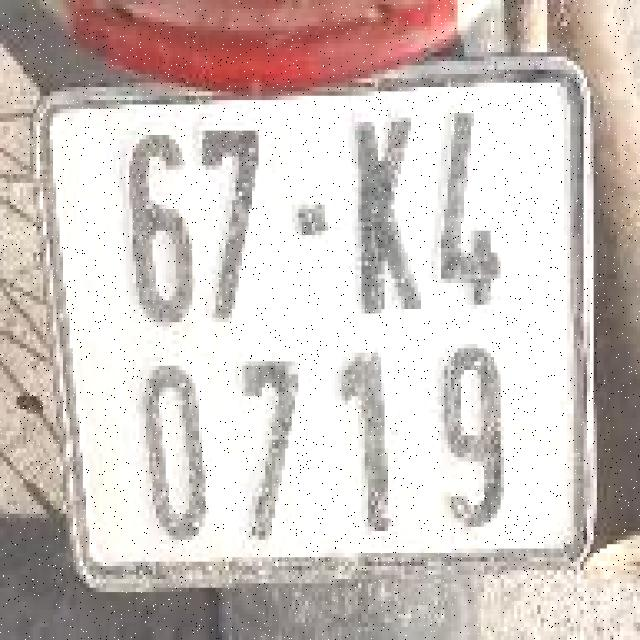0: (136, 346, 219, 547)
1: (337, 324, 396, 555)
4: (438, 98, 507, 320)
6: (116, 124, 199, 333)
7: (235, 333, 312, 551), (202, 109, 262, 326)
9: (434, 329, 520, 564)
K: (352, 105, 431, 326)
